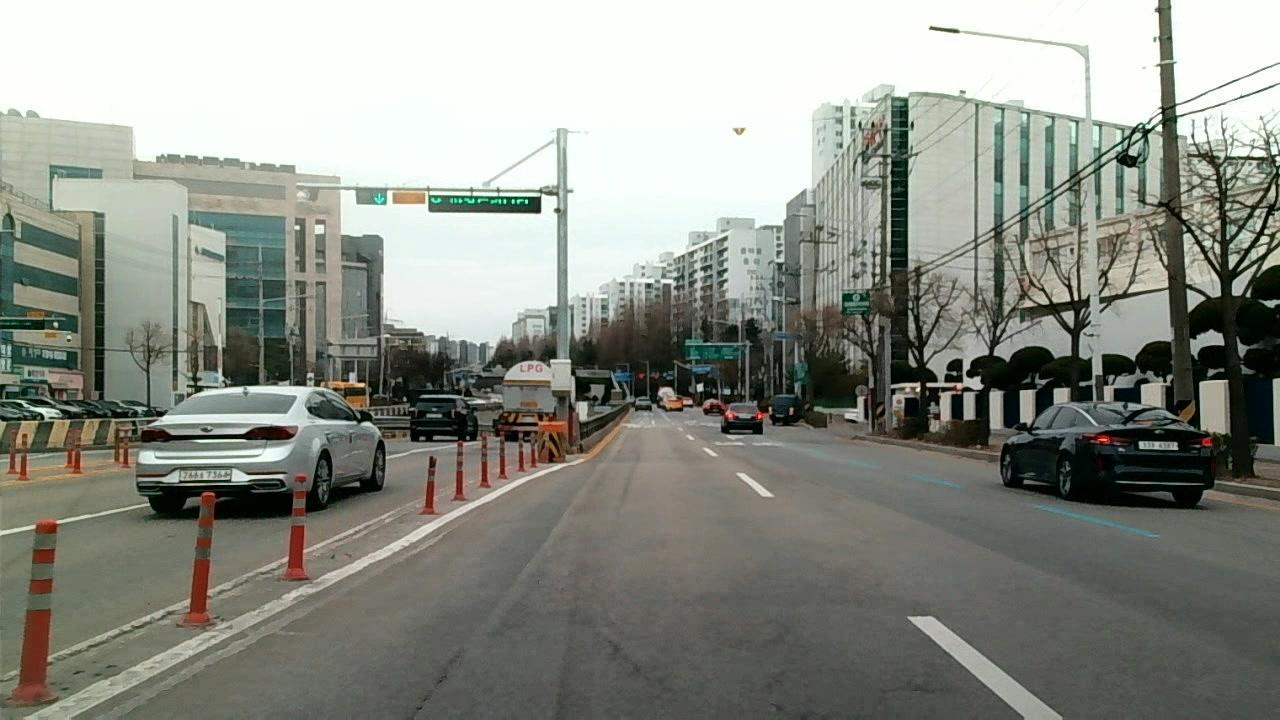vcrack: (55, 609, 177, 665), (599, 631, 668, 692), (399, 651, 457, 720), (212, 562, 284, 599)
